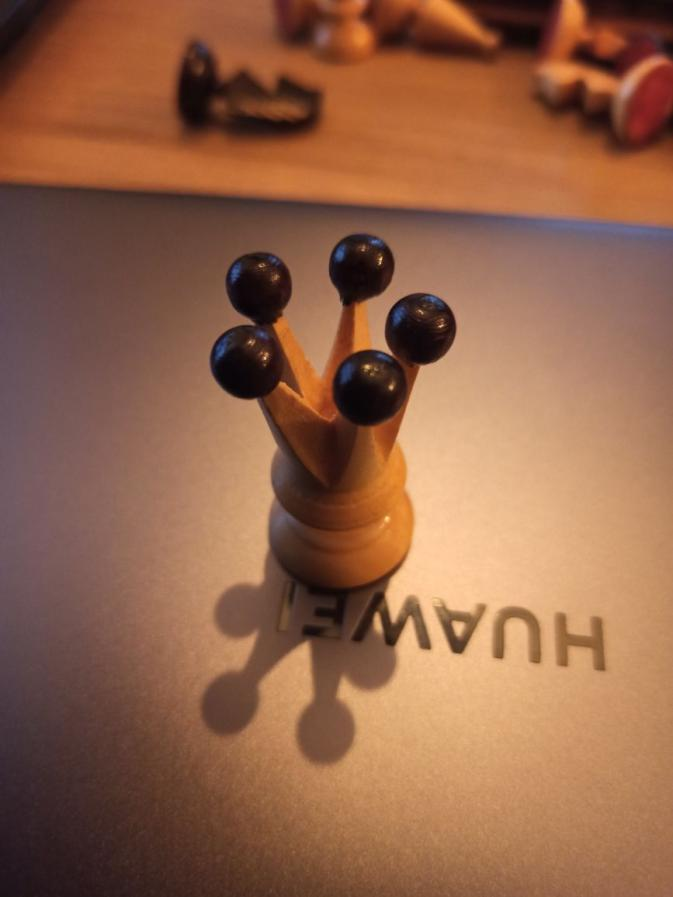wqueen: (206, 231, 457, 597)
